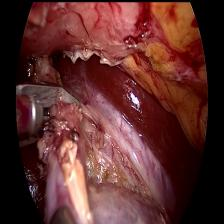Clipper: (15, 78, 80, 146)
